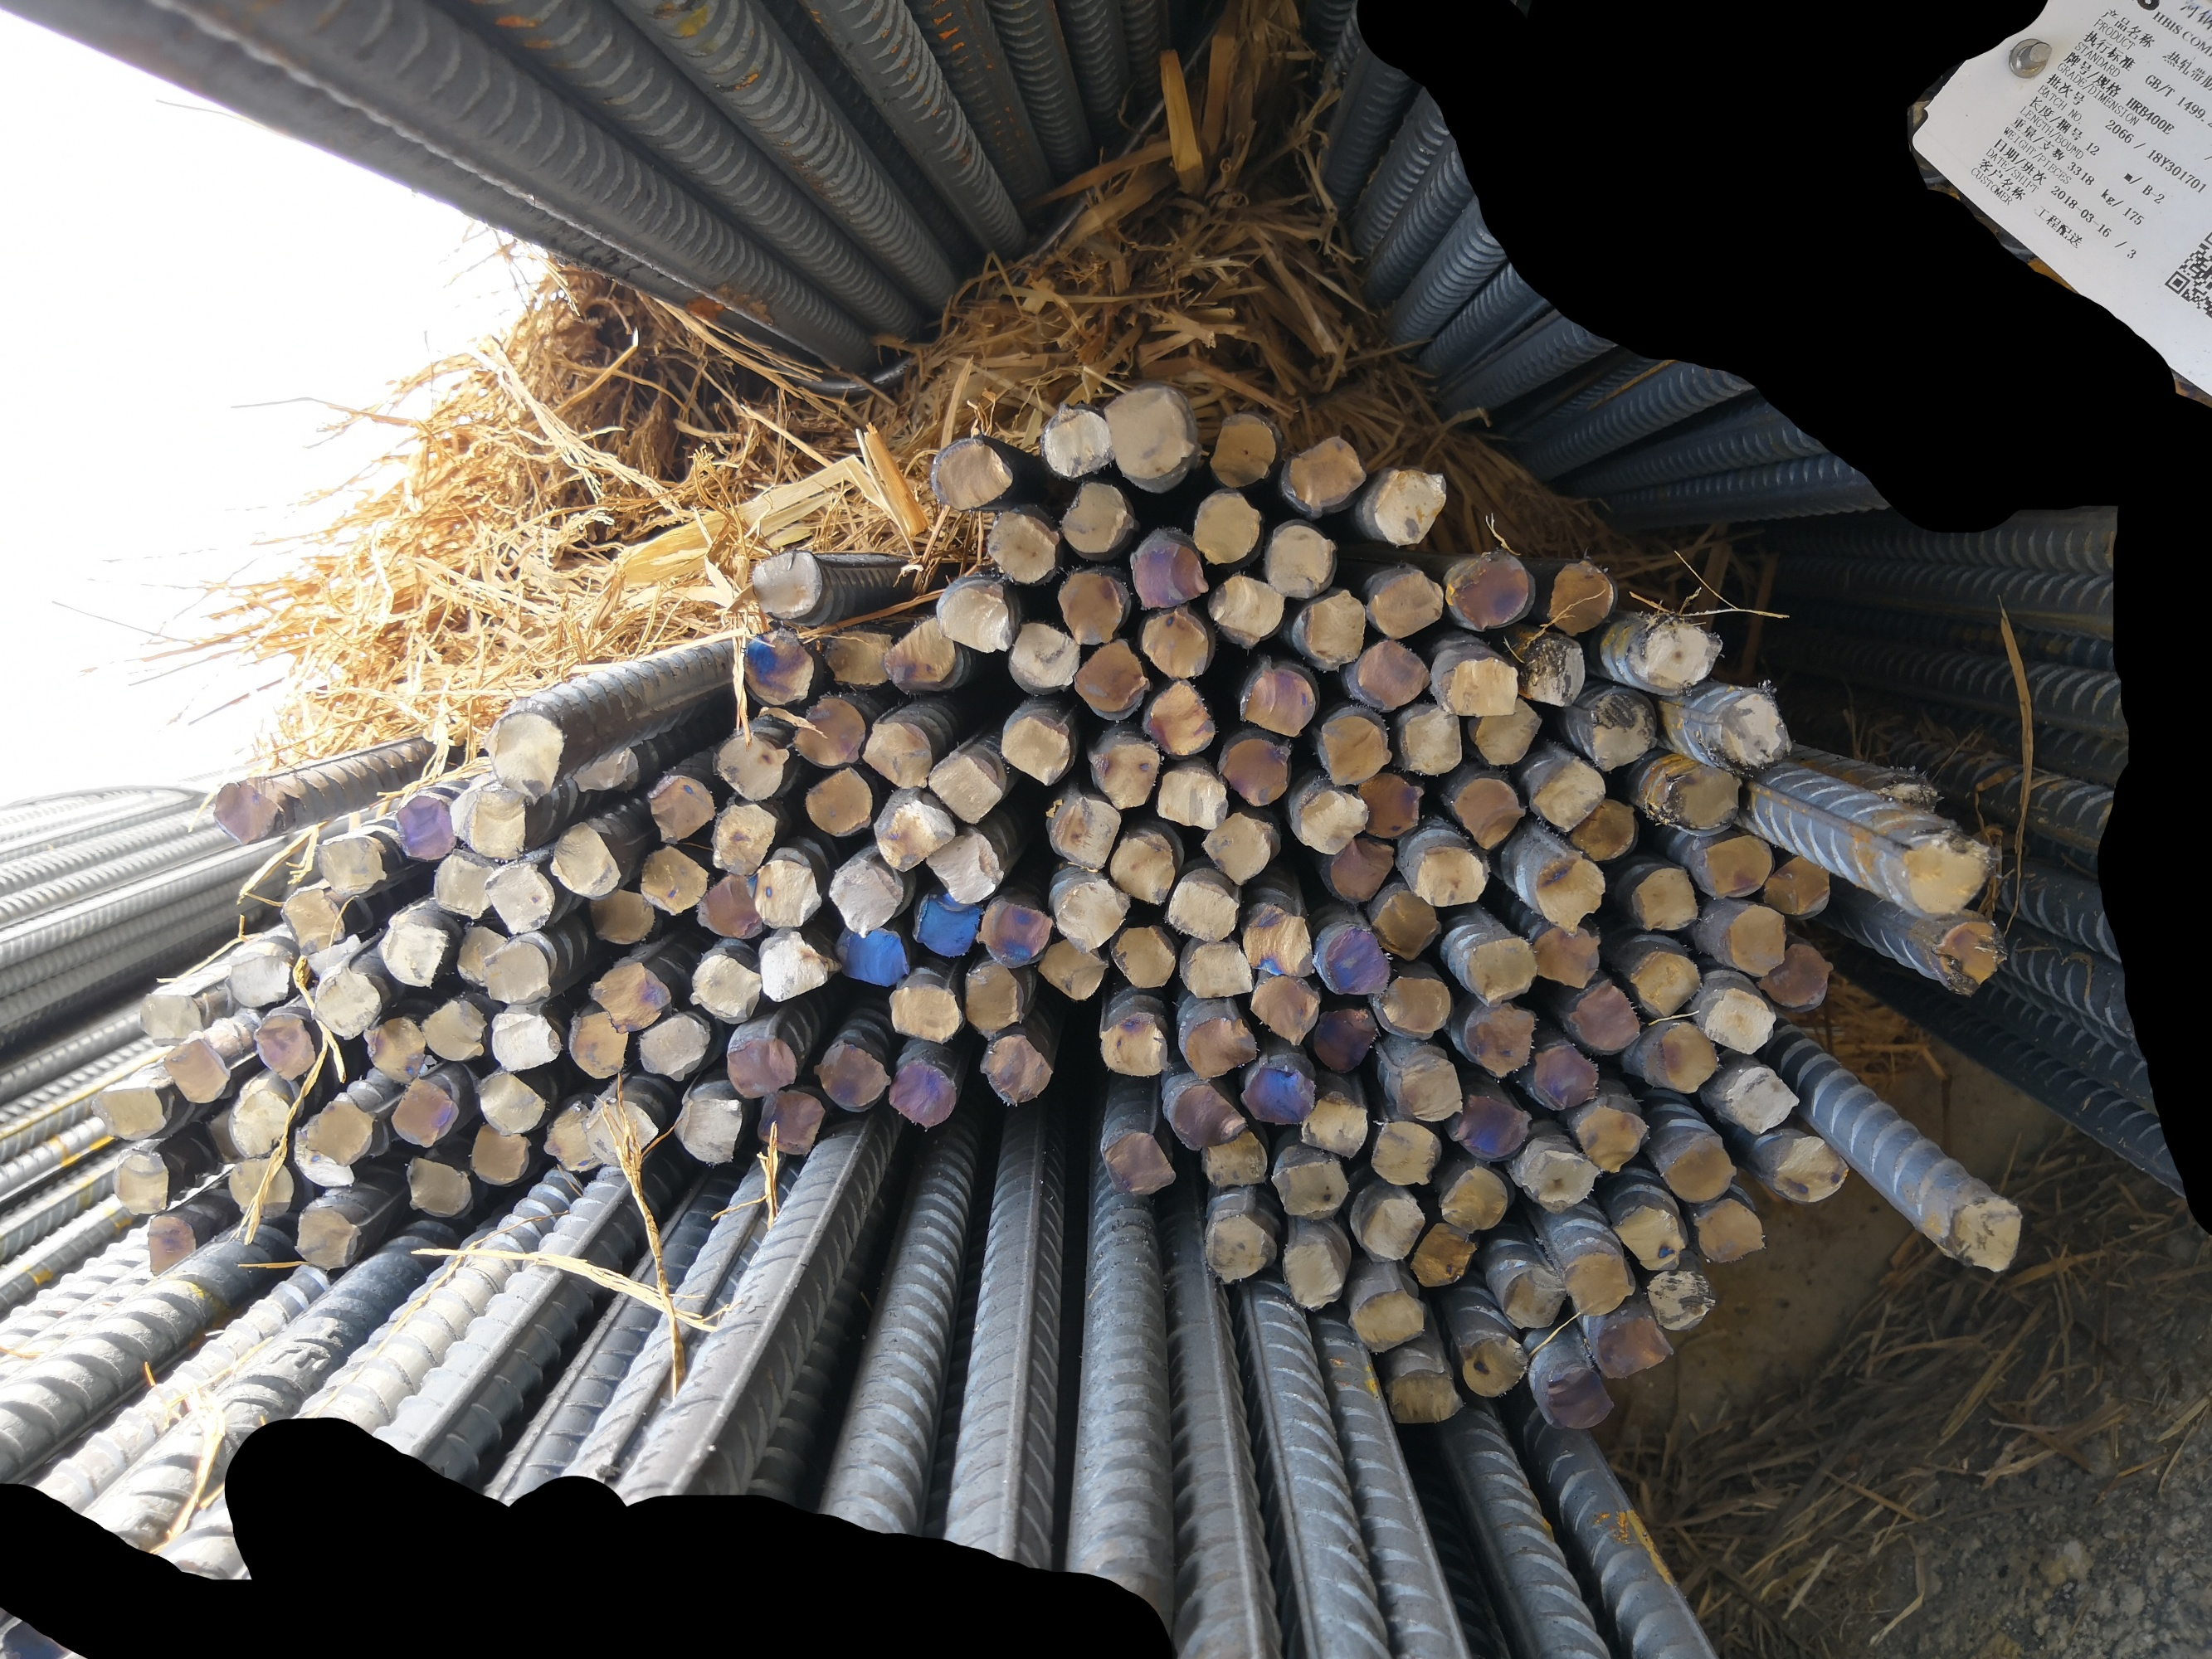rebar: (1103, 380, 1196, 483), (1893, 829, 1991, 920), (1630, 610, 1724, 695), (485, 709, 567, 800), (1128, 521, 1210, 612), (1449, 547, 1536, 631), (1940, 1192, 2024, 1276), (1285, 434, 1367, 519), (824, 852, 905, 939), (926, 436, 1014, 514), (933, 573, 1014, 655), (1072, 638, 1150, 723), (1534, 845, 1607, 936), (922, 826, 1006, 904), (1370, 464, 1449, 547), (873, 798, 959, 873), (812, 1035, 892, 1114), (1930, 918, 2008, 999), (1241, 655, 1318, 737), (1715, 690, 1792, 772), (743, 624, 816, 709), (589, 962, 675, 1035), (882, 613, 960, 692), (926, 748, 1004, 826), (985, 504, 1062, 584), (999, 711, 1075, 791), (1164, 1079, 1246, 1154), (1353, 638, 1435, 713), (1639, 1019, 1720, 1094), (1588, 692, 1661, 775), (1053, 877, 1130, 955), (1201, 1209, 1279, 1286), (709, 727, 790, 802), (758, 929, 838, 1004), (1189, 486, 1262, 568), (1142, 678, 1215, 760), (973, 896, 1055, 969), (1365, 566, 1447, 640), (1297, 587, 1368, 671), (1590, 1314, 1677, 1382), (1264, 519, 1339, 598), (1529, 758, 1607, 833), (549, 819, 622, 899), (744, 857, 824, 931), (1771, 1133, 1851, 1206), (1544, 556, 1616, 638), (1520, 1141, 1602, 1213), (1659, 765, 1743, 835), (310, 967, 385, 1044), (375, 917, 450, 993), (793, 692, 868, 769), (1210, 570, 1286, 645), (1318, 711, 1393, 788), (1567, 978, 1642, 1054), (1004, 617, 1082, 690), (1041, 401, 1114, 479), (1049, 795, 1123, 873), (1215, 734, 1293, 807), (708, 798, 779, 878), (471, 1066, 553, 1136), (1269, 1157, 1353, 1225), (1060, 479, 1135, 554), (1239, 901, 1314, 976), (1199, 810, 1274, 885), (643, 770, 716, 847), (978, 1035, 1055, 1108), (1452, 774, 1525, 850), (1367, 885, 1440, 962), (1206, 411, 1278, 490), (579, 1096, 659, 1166), (831, 918, 912, 988), (1539, 1364, 1619, 1434), (1452, 1093, 1532, 1162), (1700, 988, 1780, 1058), (275, 884, 349, 958), (483, 861, 556, 936), (636, 842, 709, 917), (689, 951, 763, 1025), (725, 1026, 798, 1101), (751, 547, 824, 622), (1250, 974, 1325, 1047), (1316, 922, 1389, 997), (1462, 934, 1537, 1007), (1727, 1065, 1801, 1140), (302, 1098, 378, 1169), (485, 1000, 561, 1072), (753, 1086, 830, 1157), (1056, 570, 1128, 647), (1089, 734, 1161, 810), (1100, 1127, 1177, 1199), (1164, 875, 1241, 946), (1462, 1000, 1534, 1077), (1347, 1284, 1426, 1354), (1558, 1248, 1637, 1317), (1612, 1204, 1691, 1274), (1658, 1138, 1738, 1206), (387, 1077, 460, 1150), (225, 1086, 296, 1161), (802, 763, 873, 838), (636, 1012, 711, 1084), (1140, 605, 1211, 680), (1574, 1105, 1649, 1176), (1701, 829, 1776, 901), (1321, 835, 1398, 904), (1412, 840, 1489, 910), (1375, 971, 1452, 1040), (1628, 950, 1705, 1019), (207, 781, 286, 849), (1182, 1012, 1260, 1080), (1440, 653, 1520, 720), (861, 718, 934, 789), (1098, 1007, 1170, 1080), (1297, 1089, 1370, 1161), (1297, 786, 1370, 857), (1109, 831, 1178, 906), (464, 786, 532, 863), (1034, 936, 1110, 1004), (1239, 1058, 1316, 1126), (1691, 1197, 1768, 1265), (1757, 943, 1835, 1009), (1354, 769, 1426, 840), (159, 1037, 232, 1107), (289, 1206, 363, 1276), (415, 999, 488, 1068), (823, 620, 896, 690), (885, 1058, 959, 1127), (1527, 1040, 1600, 1110), (481, 939, 556, 1007), (908, 890, 983, 958), (223, 1155, 295, 1225), (673, 1094, 743, 1166), (1471, 697, 1543, 767), (1393, 1053, 1462, 1124), (249, 1009, 317, 1082), (694, 873, 767, 941), (1358, 1190, 1426, 1263), (1530, 924, 1605, 990), (1382, 1364, 1466, 1424), (1523, 633, 1588, 709), (427, 852, 497, 922), (1440, 1164, 1510, 1234), (565, 1009, 633, 1080), (1313, 1004, 1381, 1075), (89, 1084, 171, 1143), (887, 983, 964, 1046), (962, 962, 1025, 1039), (310, 836, 389, 897), (361, 1016, 429, 1086), (1410, 1220, 1480, 1288), (1762, 850, 1832, 918), (1630, 864, 1700, 932), (1199, 1124, 1271, 1190), (1370, 1119, 1442, 1185), (1459, 1333, 1530, 1399), (540, 1101, 605, 1175), (1726, 901, 1787, 978), (1497, 1263, 1565, 1331), (1645, 1267, 1717, 1331), (1156, 767, 1229, 829), (1283, 1237, 1344, 1312), (1870, 765, 1949, 823), (1571, 796, 1639, 863), (390, 795, 455, 863), (1112, 922, 1177, 990), (136, 990, 206, 1053), (1401, 706, 1464, 775), (1184, 938, 1255, 999), (465, 1124, 532, 1188), (403, 1155, 471, 1218), (587, 885, 657, 946), (108, 1150, 171, 1216), (453, 924, 512, 992), (289, 1129, 357, 1187), (143, 1211, 199, 1279), (227, 955, 295, 1011), (570, 744, 643, 795), (296, 934, 364, 979), (202, 1107, 249, 1166)
